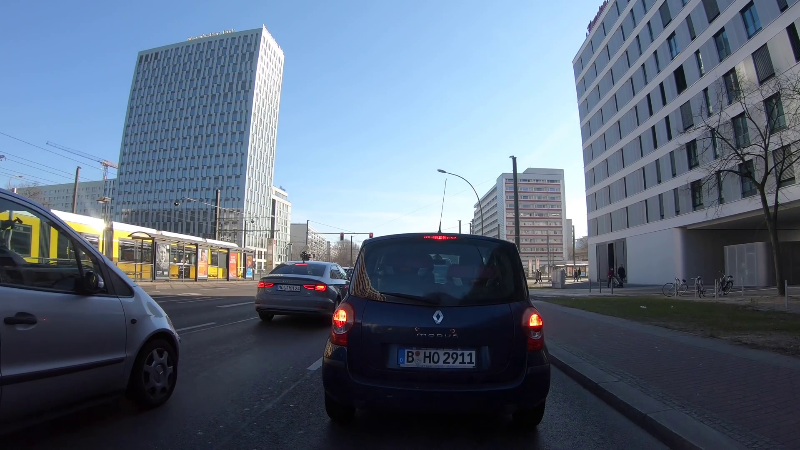Plate: (395, 343, 478, 370), (273, 282, 302, 293)
